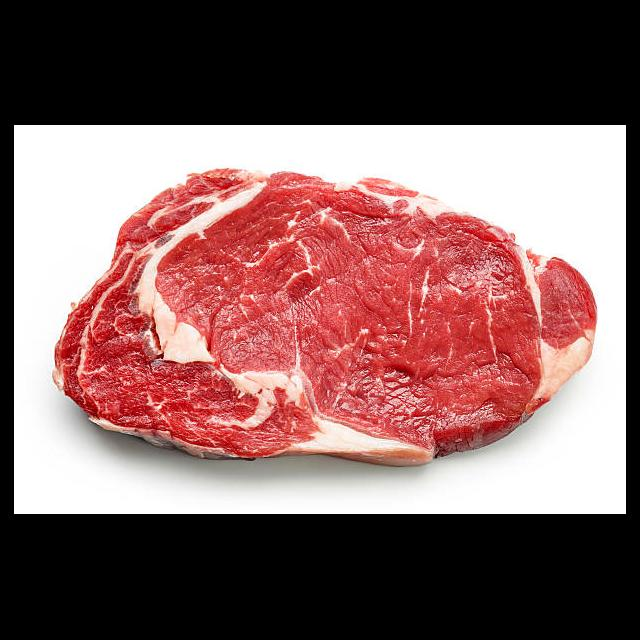beef: (47, 168, 601, 465)
